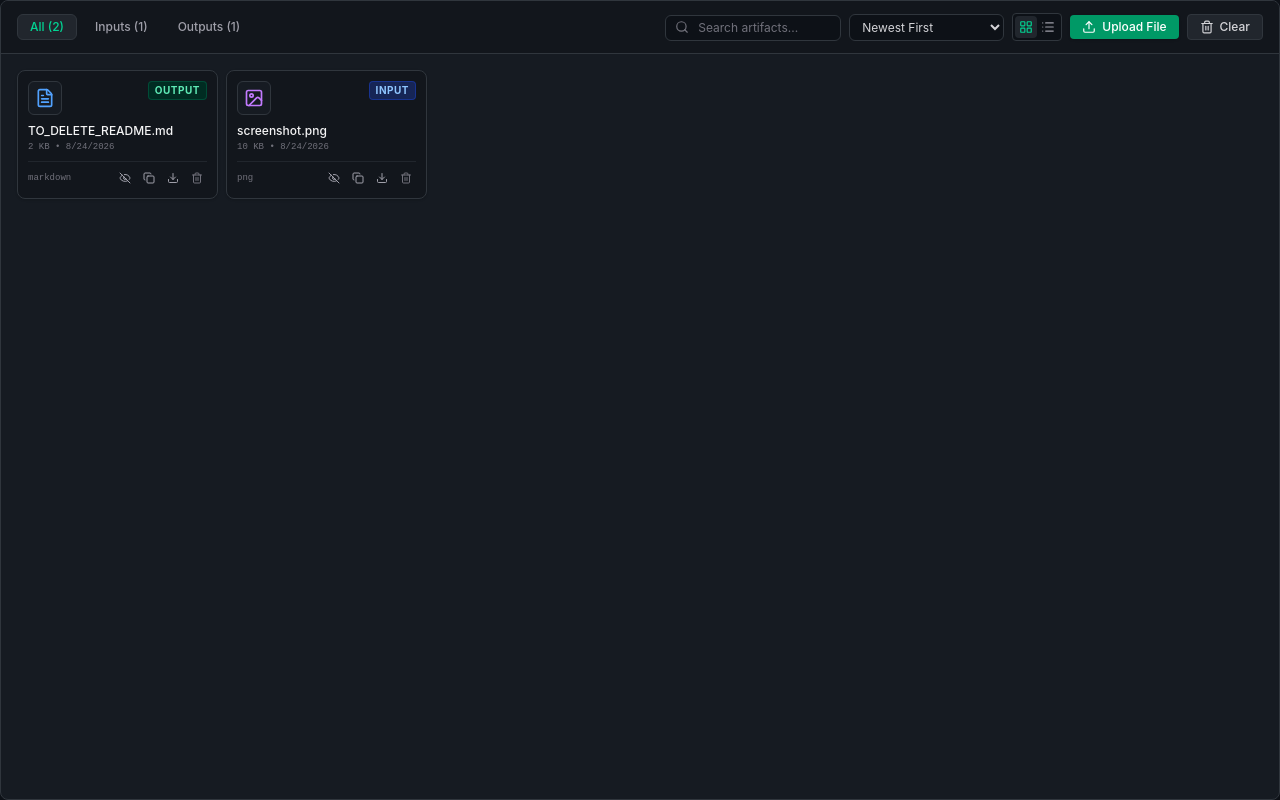
Scenario: ArtifactGallery Component › opens preview modal when clicking an artifact card
Click the element with test id "artifact-card-art-2".
click(118, 134)  # box [17, 70, 218, 199]
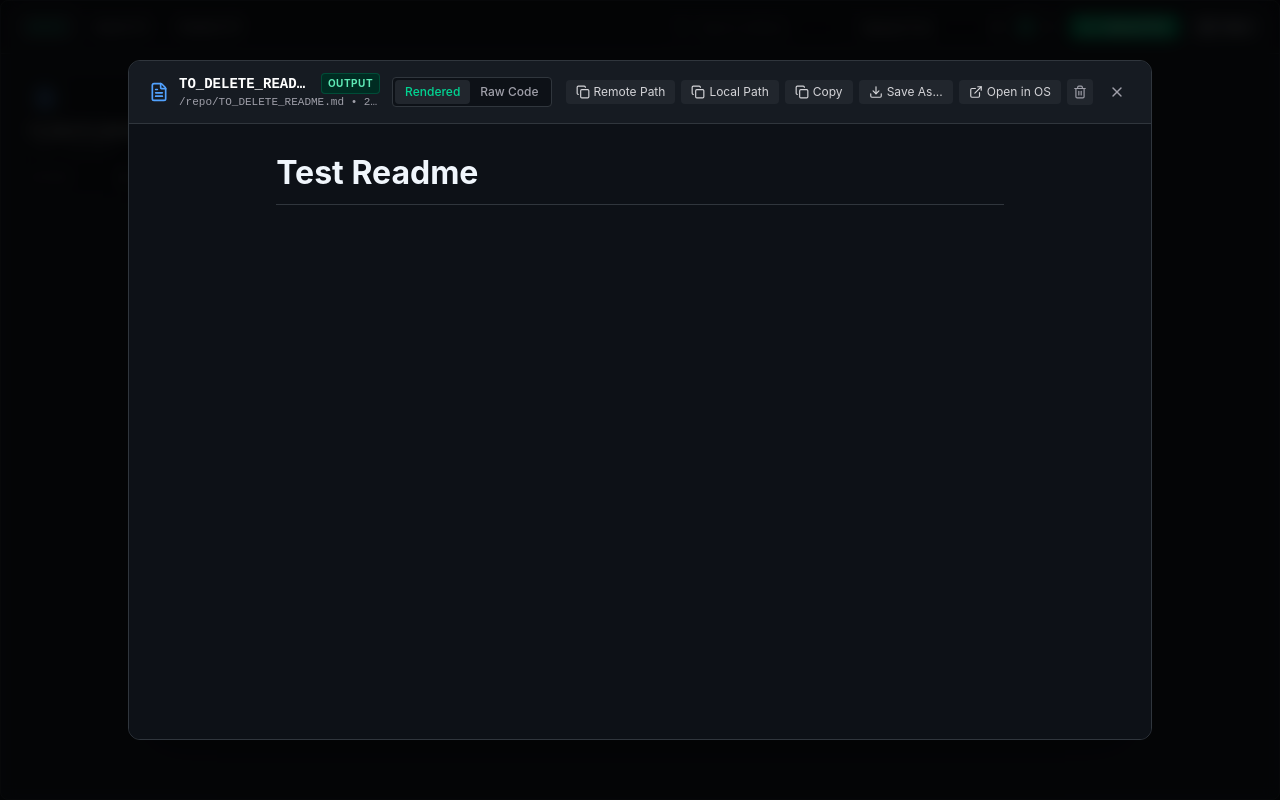
Now the element with test id "artifact-preview-modal" is shown
Now the heading "Test Readme" is shown, box [276, 152, 1004, 205]
Click the button with test id "close-artifact-modal-button".
click(1117, 92)  # box [1103, 78, 1131, 106]
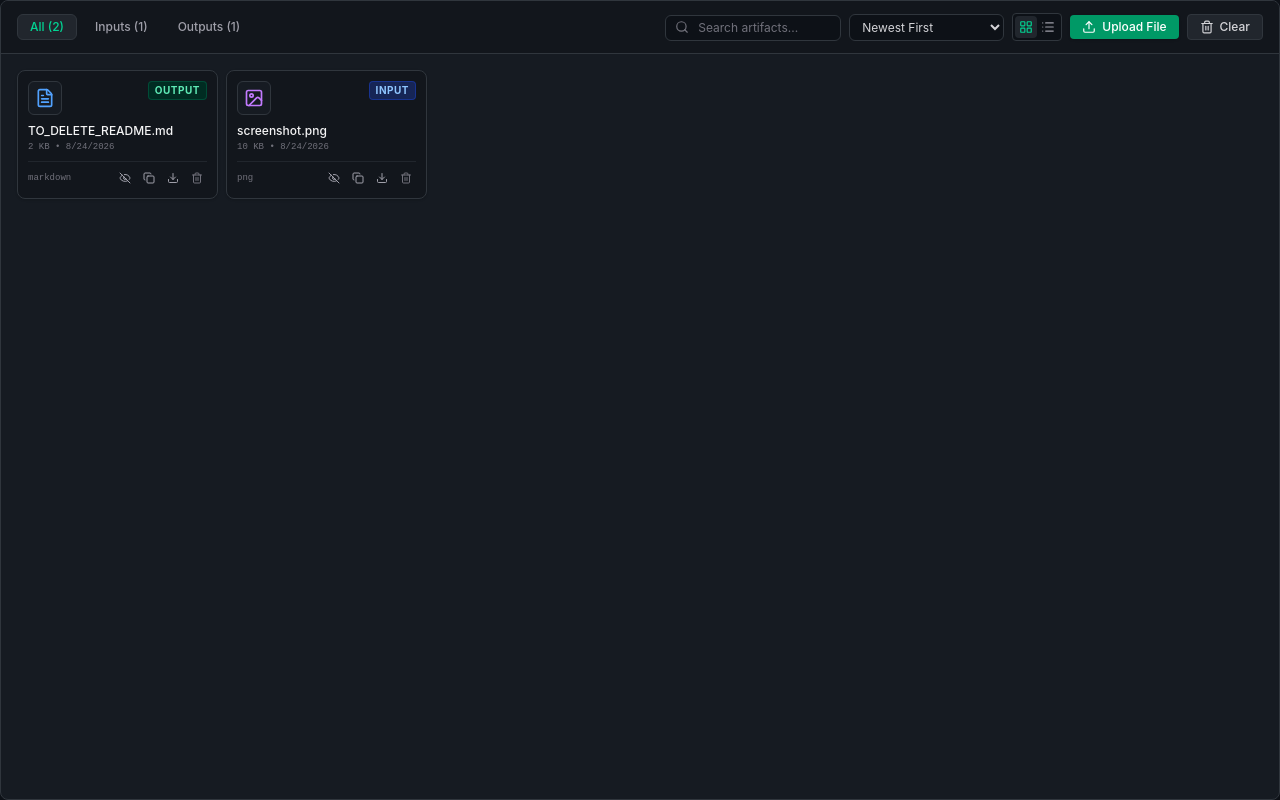
Now the element with test id "artifact-preview-modal" is gone
